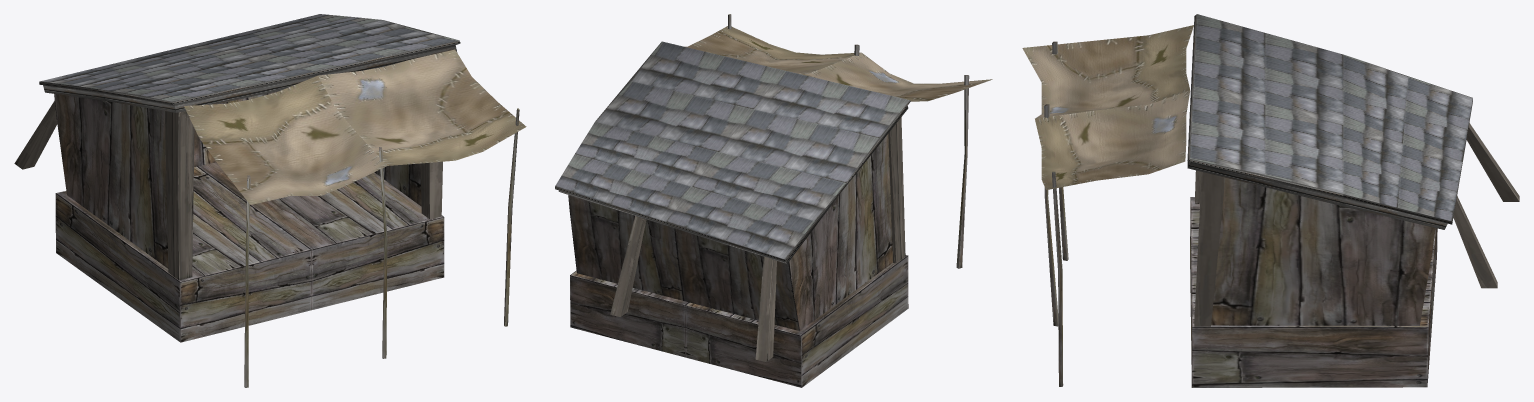
The model's file is shanty_leanto_A.fbx.
3 renders of one model, left to right at view 1: azimuth 30°, elevation 25°; view 2: azimuth 150°, elevation 25°; view 3: azimuth 270°, elevation 25°, orthographic. The views are drawn at different scales.
Visible parts, largest first — view 1: platform, tent_canvas_bottom, house_shingles, house_walls, tent_canvas_top, columnB, house_sophet, columnA, columnA4, tent_pole1, tent_pole3, tent_pole2; view 2: house_shingles, house_walls, platform, tent_canvas_bottom, tent_canvas_top, house_sophet, columnB, columnA4, columnA1, tent_pole3; view 3: house_shingles, house_walls, platform, tent_canvas_top, tent_canvas_bottom, house_sophet, columnA, columnA1, columnA4, tent_pole1, tent_pole2, tent_pole3.
Boxes of the visible parts, x1,y1,x2,y2 form: platform: (55, 162, 444, 342); tent_canvas_bottom: (226, 49, 526, 195); house_shingles: (40, 14, 458, 101); house_walls: (54, 91, 421, 268); tent_canvas_top: (184, 51, 520, 204); columnB: (165, 111, 194, 280); house_sophet: (39, 21, 460, 112); columnA: (420, 161, 442, 219); columnA4: (14, 100, 57, 169); tent_pole1: (504, 108, 519, 326); tent_pole3: (244, 175, 250, 387); tent_pole2: (379, 147, 387, 358); house_shingles: (555, 41, 909, 259); house_walls: (568, 134, 892, 330); platform: (570, 255, 908, 387); tent_canvas_bottom: (685, 26, 913, 96); tent_canvas_top: (688, 32, 992, 101); house_sophet: (555, 43, 910, 263); columnB: (888, 117, 905, 263); columnA4: (755, 256, 776, 361); columnA1: (610, 216, 646, 316); tent_pole3: (956, 75, 969, 268); house_shingles: (1190, 14, 1472, 221); house_walls: (1211, 177, 1435, 325); platform: (1190, 197, 1437, 387); tent_canvas_top: (1022, 25, 1193, 178); tent_canvas_bottom: (1035, 49, 1190, 189); house_sophet: (1187, 14, 1472, 229); columnA: (1194, 172, 1225, 326); columnA1: (1453, 195, 1497, 288); columnA4: (1466, 123, 1519, 201); tent_pole1: (1052, 171, 1063, 386); tent_pole2: (1044, 104, 1058, 326); tent_pole3: (1052, 41, 1068, 260).
Bounding box in the file's own units: 2664 × 2086 × 3898.
2 materials, 2 textured.
